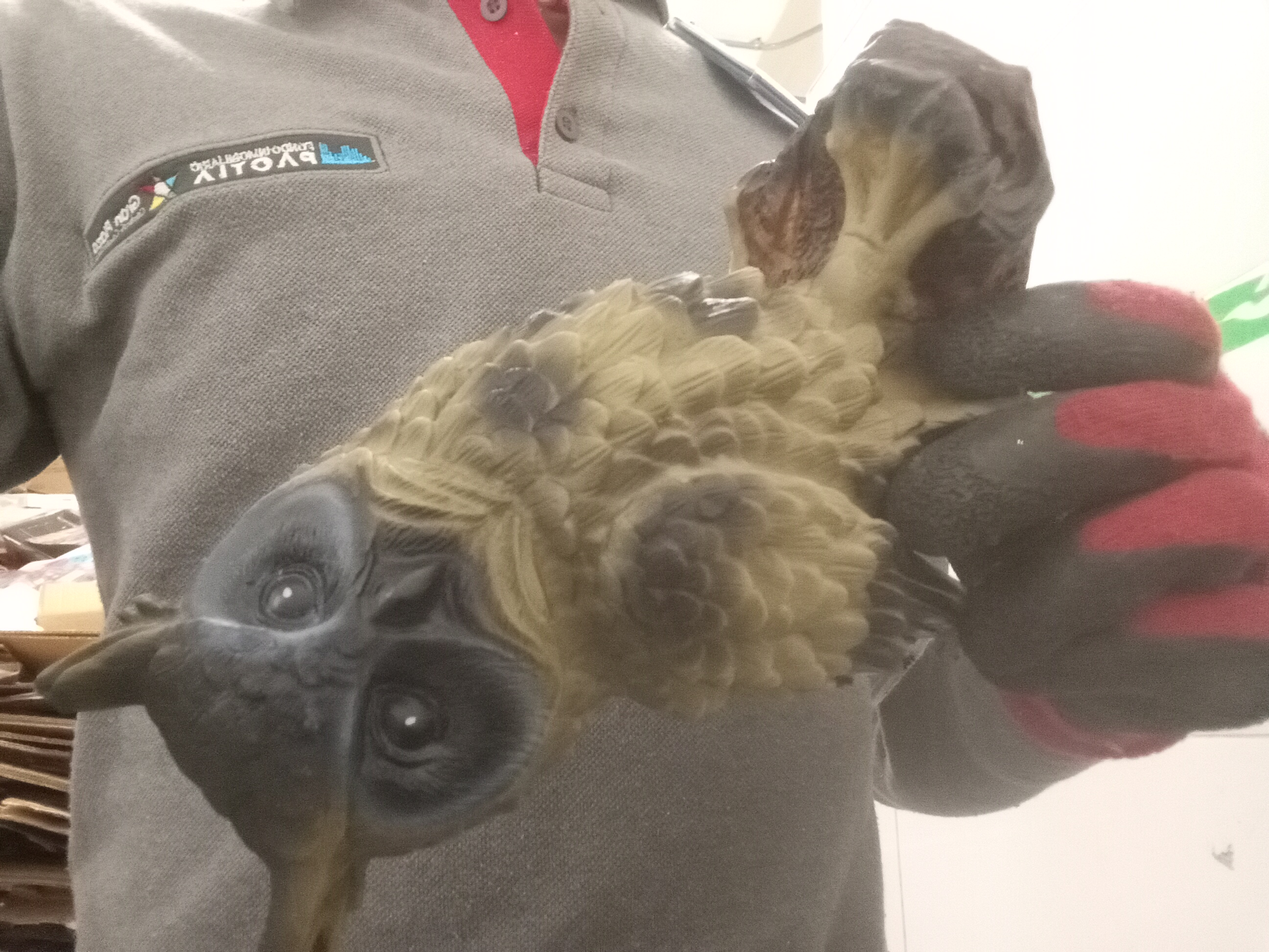Ordinario: (40, 20, 1055, 949)
